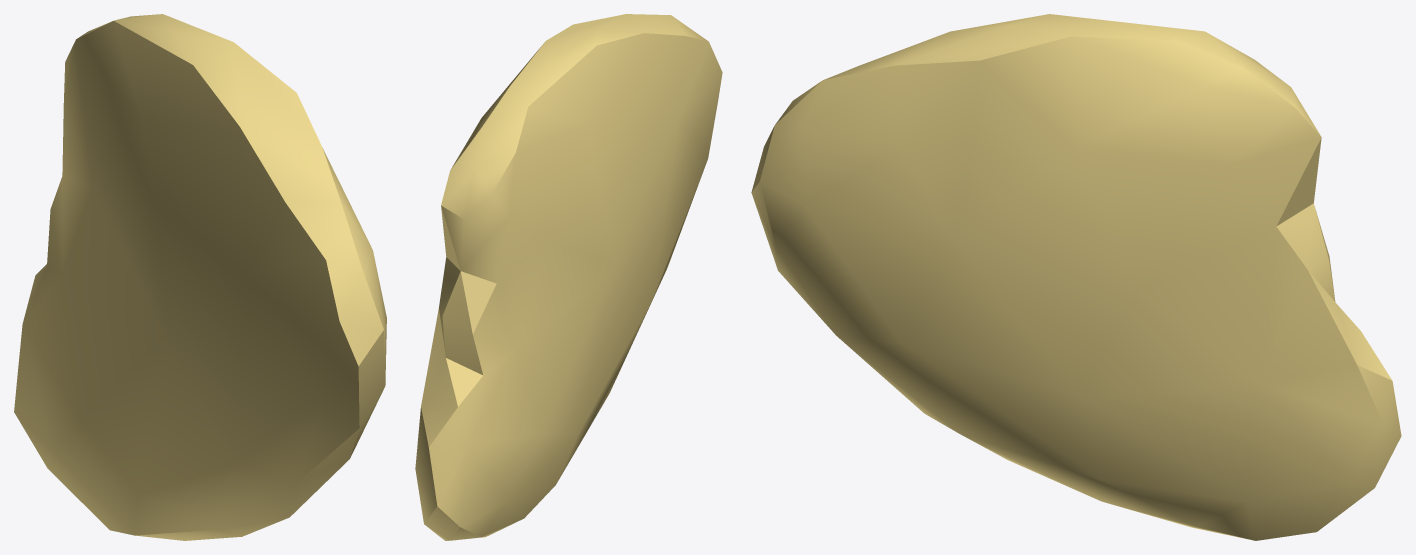
File: fma72892_mm3058m.glb
3 renders of one model, left to right at view 1: azimuth 30°, elevation 25°; view 2: azimuth 150°, elevation 25°; view 3: azimuth 270°, elevation 25°, orthographic. The views are drawn at different scales.
Parts seen in each view (by area): view 1: FMA72892_MM3058M; view 2: FMA72892_MM3058M; view 3: FMA72892_MM3058M.
Part boxes in pixels (x1=…): FMA72892_MM3058M: x1=14, y1=14, x2=386, y2=540; FMA72892_MM3058M: x1=415, y1=14, x2=722, y2=540; FMA72892_MM3058M: x1=751, y1=14, x2=1401, y2=540.
Size of the model in its own units: 0.000761 by 0.0035 by 0.00406.
